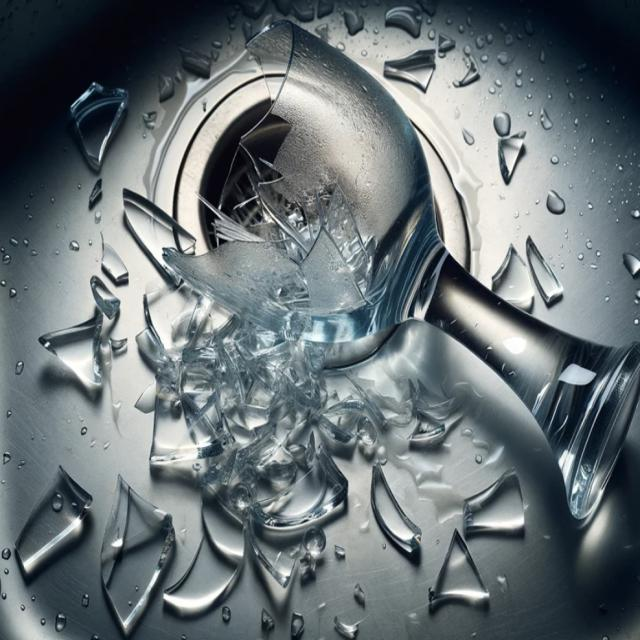PecahanKaca: (11, 14, 636, 636)
